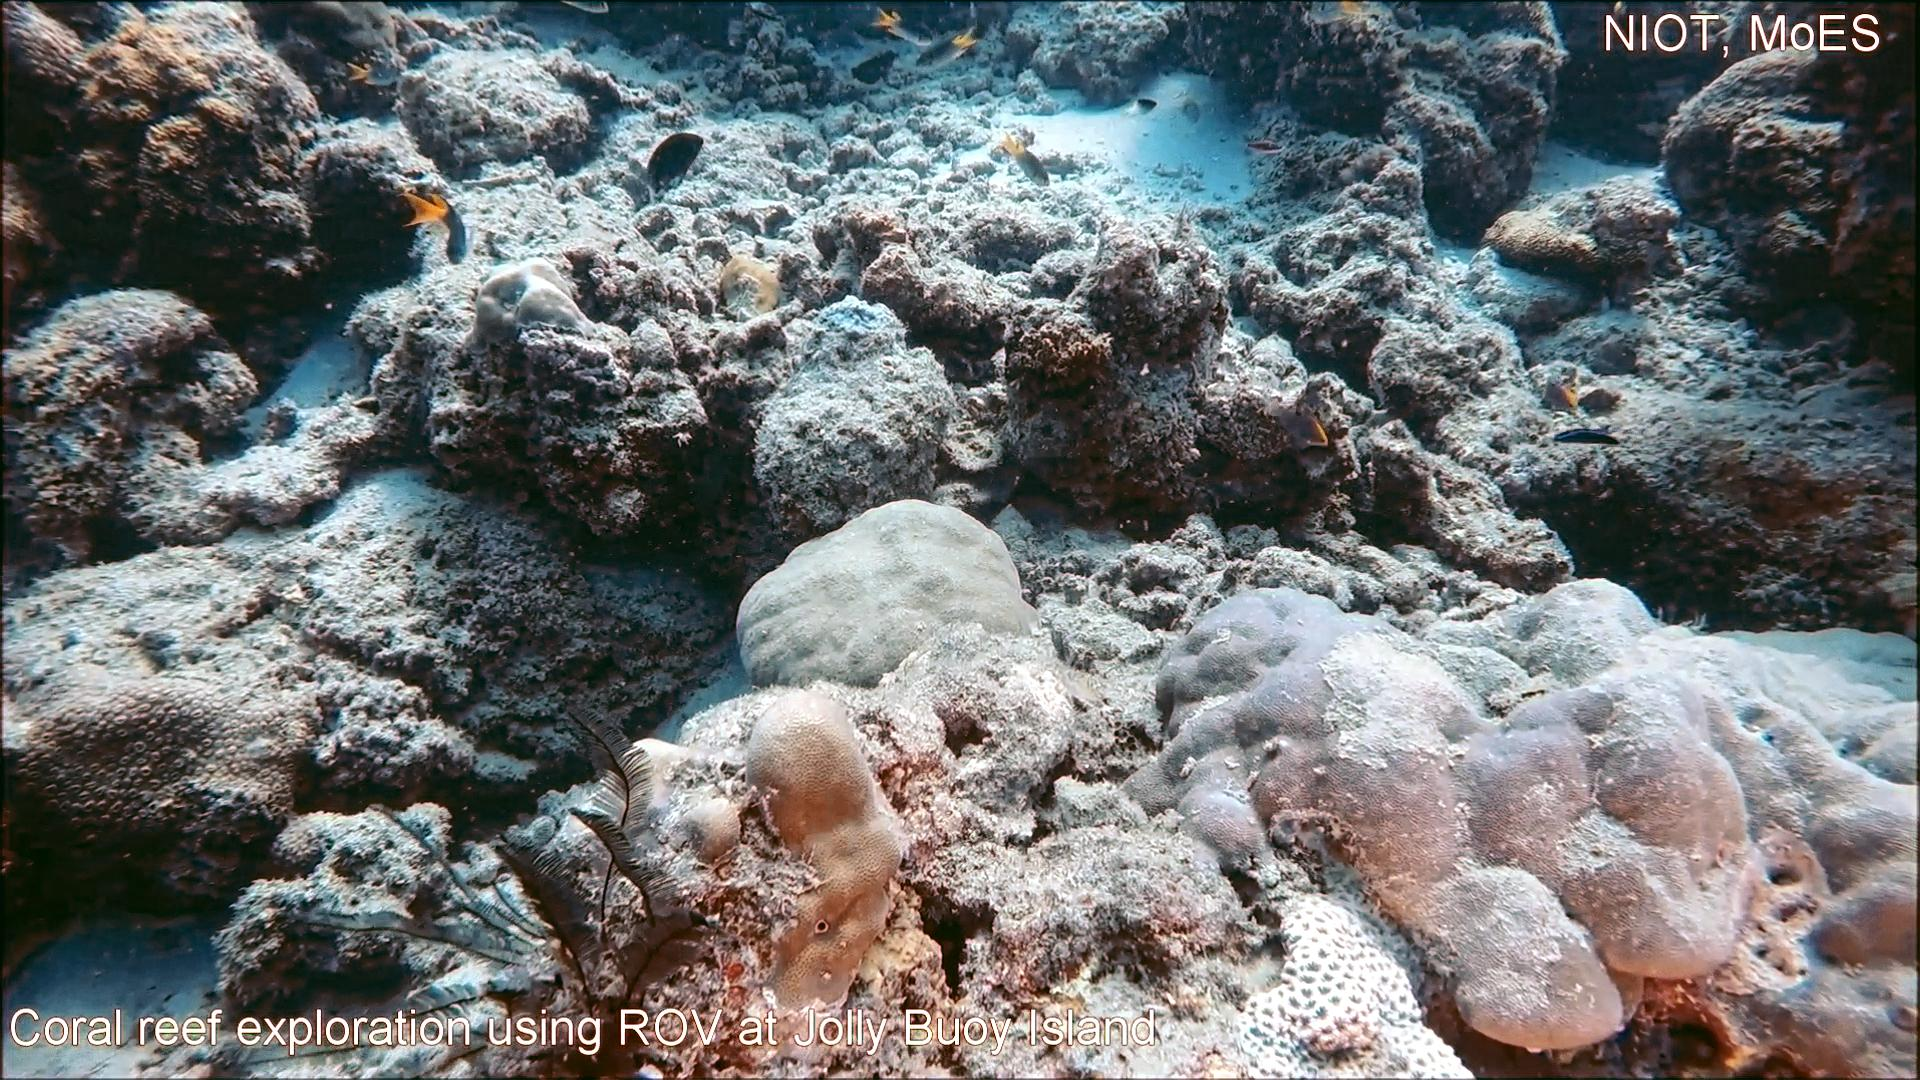Feather star-Crinoid star: (189, 688, 744, 1080)
Goniastrea-Goniastrea pectinata: (1234, 882, 1486, 1080)
Porites-Porites pukoensis: (1594, 576, 1920, 1080)
Turbinaria-Turbinaria stellulata: (0, 673, 328, 866)
